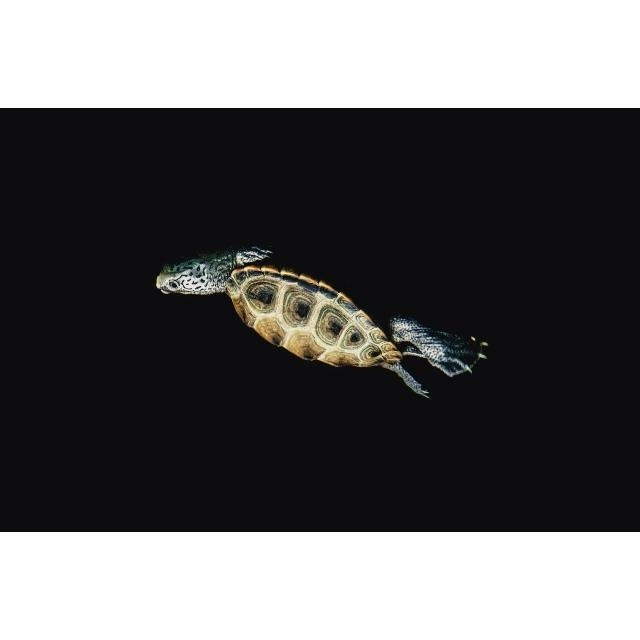turtle: (157, 242, 492, 402)
